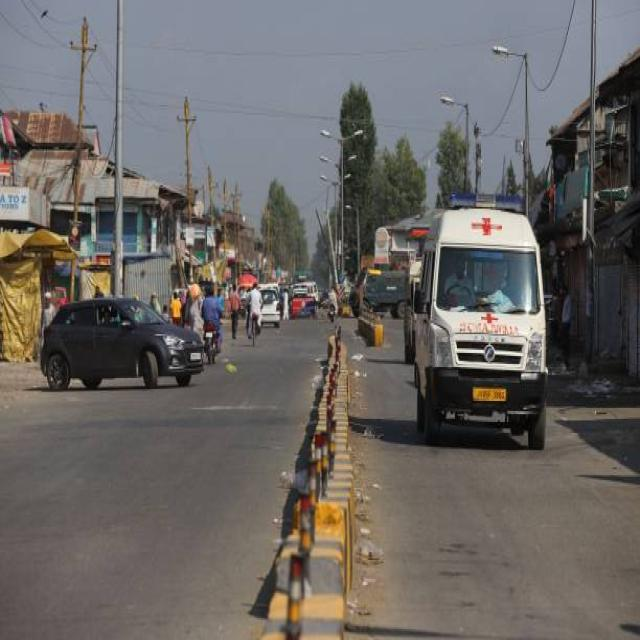ambulance: (415, 190, 548, 451)
